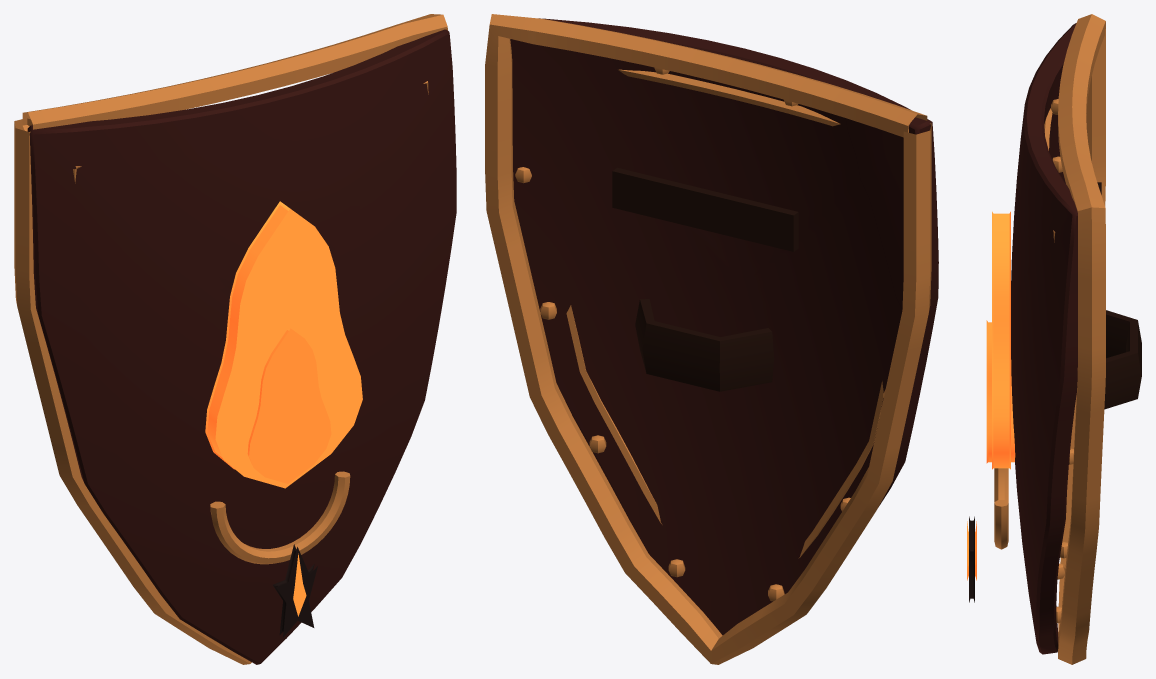
File: asc_titanblood_champion_shield.glb
3 renders of one model, left to right at view 1: azimuth 30°, elevation 25°; view 2: azimuth 150°, elevation 25°; view 3: azimuth 270°, elevation 25°, orthographic. The views are drawn at different scales.
Parts seen in each view (by area): view 1: asc_titanblood_champion_shield; view 2: asc_titanblood_champion_shield; view 3: asc_titanblood_champion_shield.
Part boxes in pixels (bbox=[...]): asc_titanblood_champion_shield: bbox=[14, 14, 456, 664]; asc_titanblood_champion_shield: bbox=[485, 14, 938, 664]; asc_titanblood_champion_shield: bbox=[967, 14, 1141, 664].
Bounding box in the file's own units: 0.636 × 0.8354 × 0.2373.
